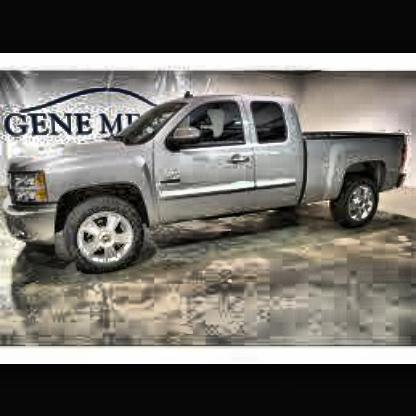Chevrolet Silverado 1500 Extended Cab 2012: (4, 92, 410, 275)
